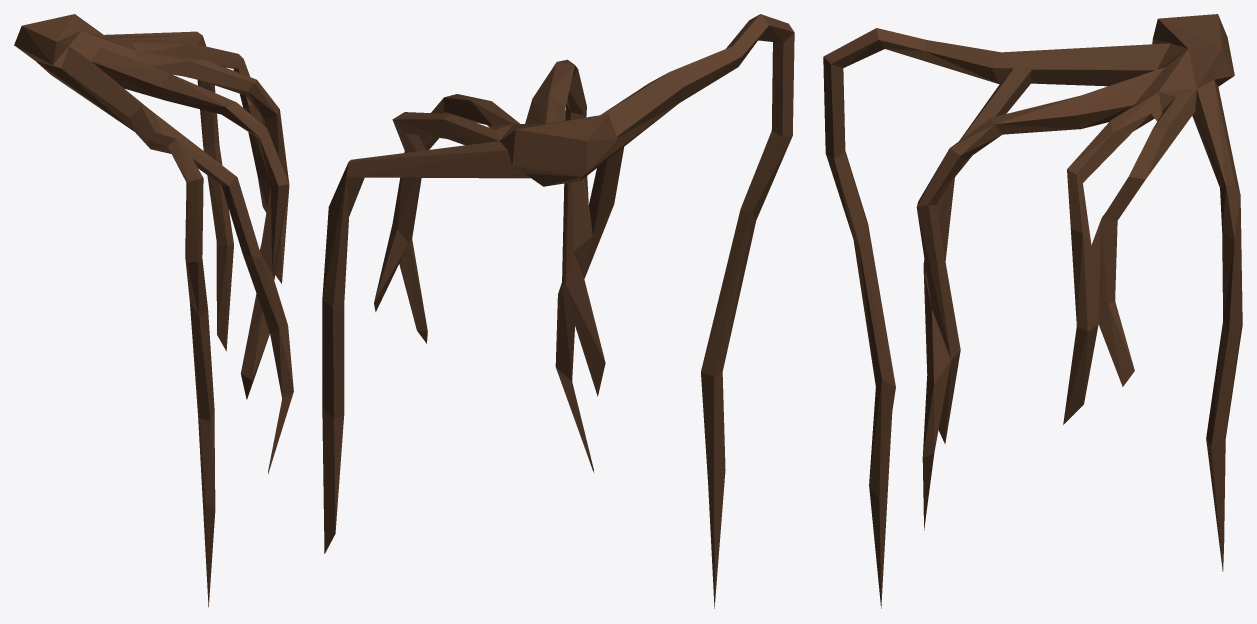
File: SM_roots_hanging_02.fbx
3 views of the same model, side by side, from view 1: azimuth 30°, elevation 25°; view 2: azimuth 150°, elevation 25°; view 3: azimuth 270°, elevation 25° (orthographic). The views are drawn at different scales.
Visible parts, largest first — view 1: Object126; view 2: Object126; view 3: Object126.
Boxes of the visible parts, x1,y1,x2,y2 form: Object126: (14,14,293,607); Object126: (322,14,794,608); Object126: (823,14,1242,608).
Bounding box in the file's own units: 151 × 329 × 218.
